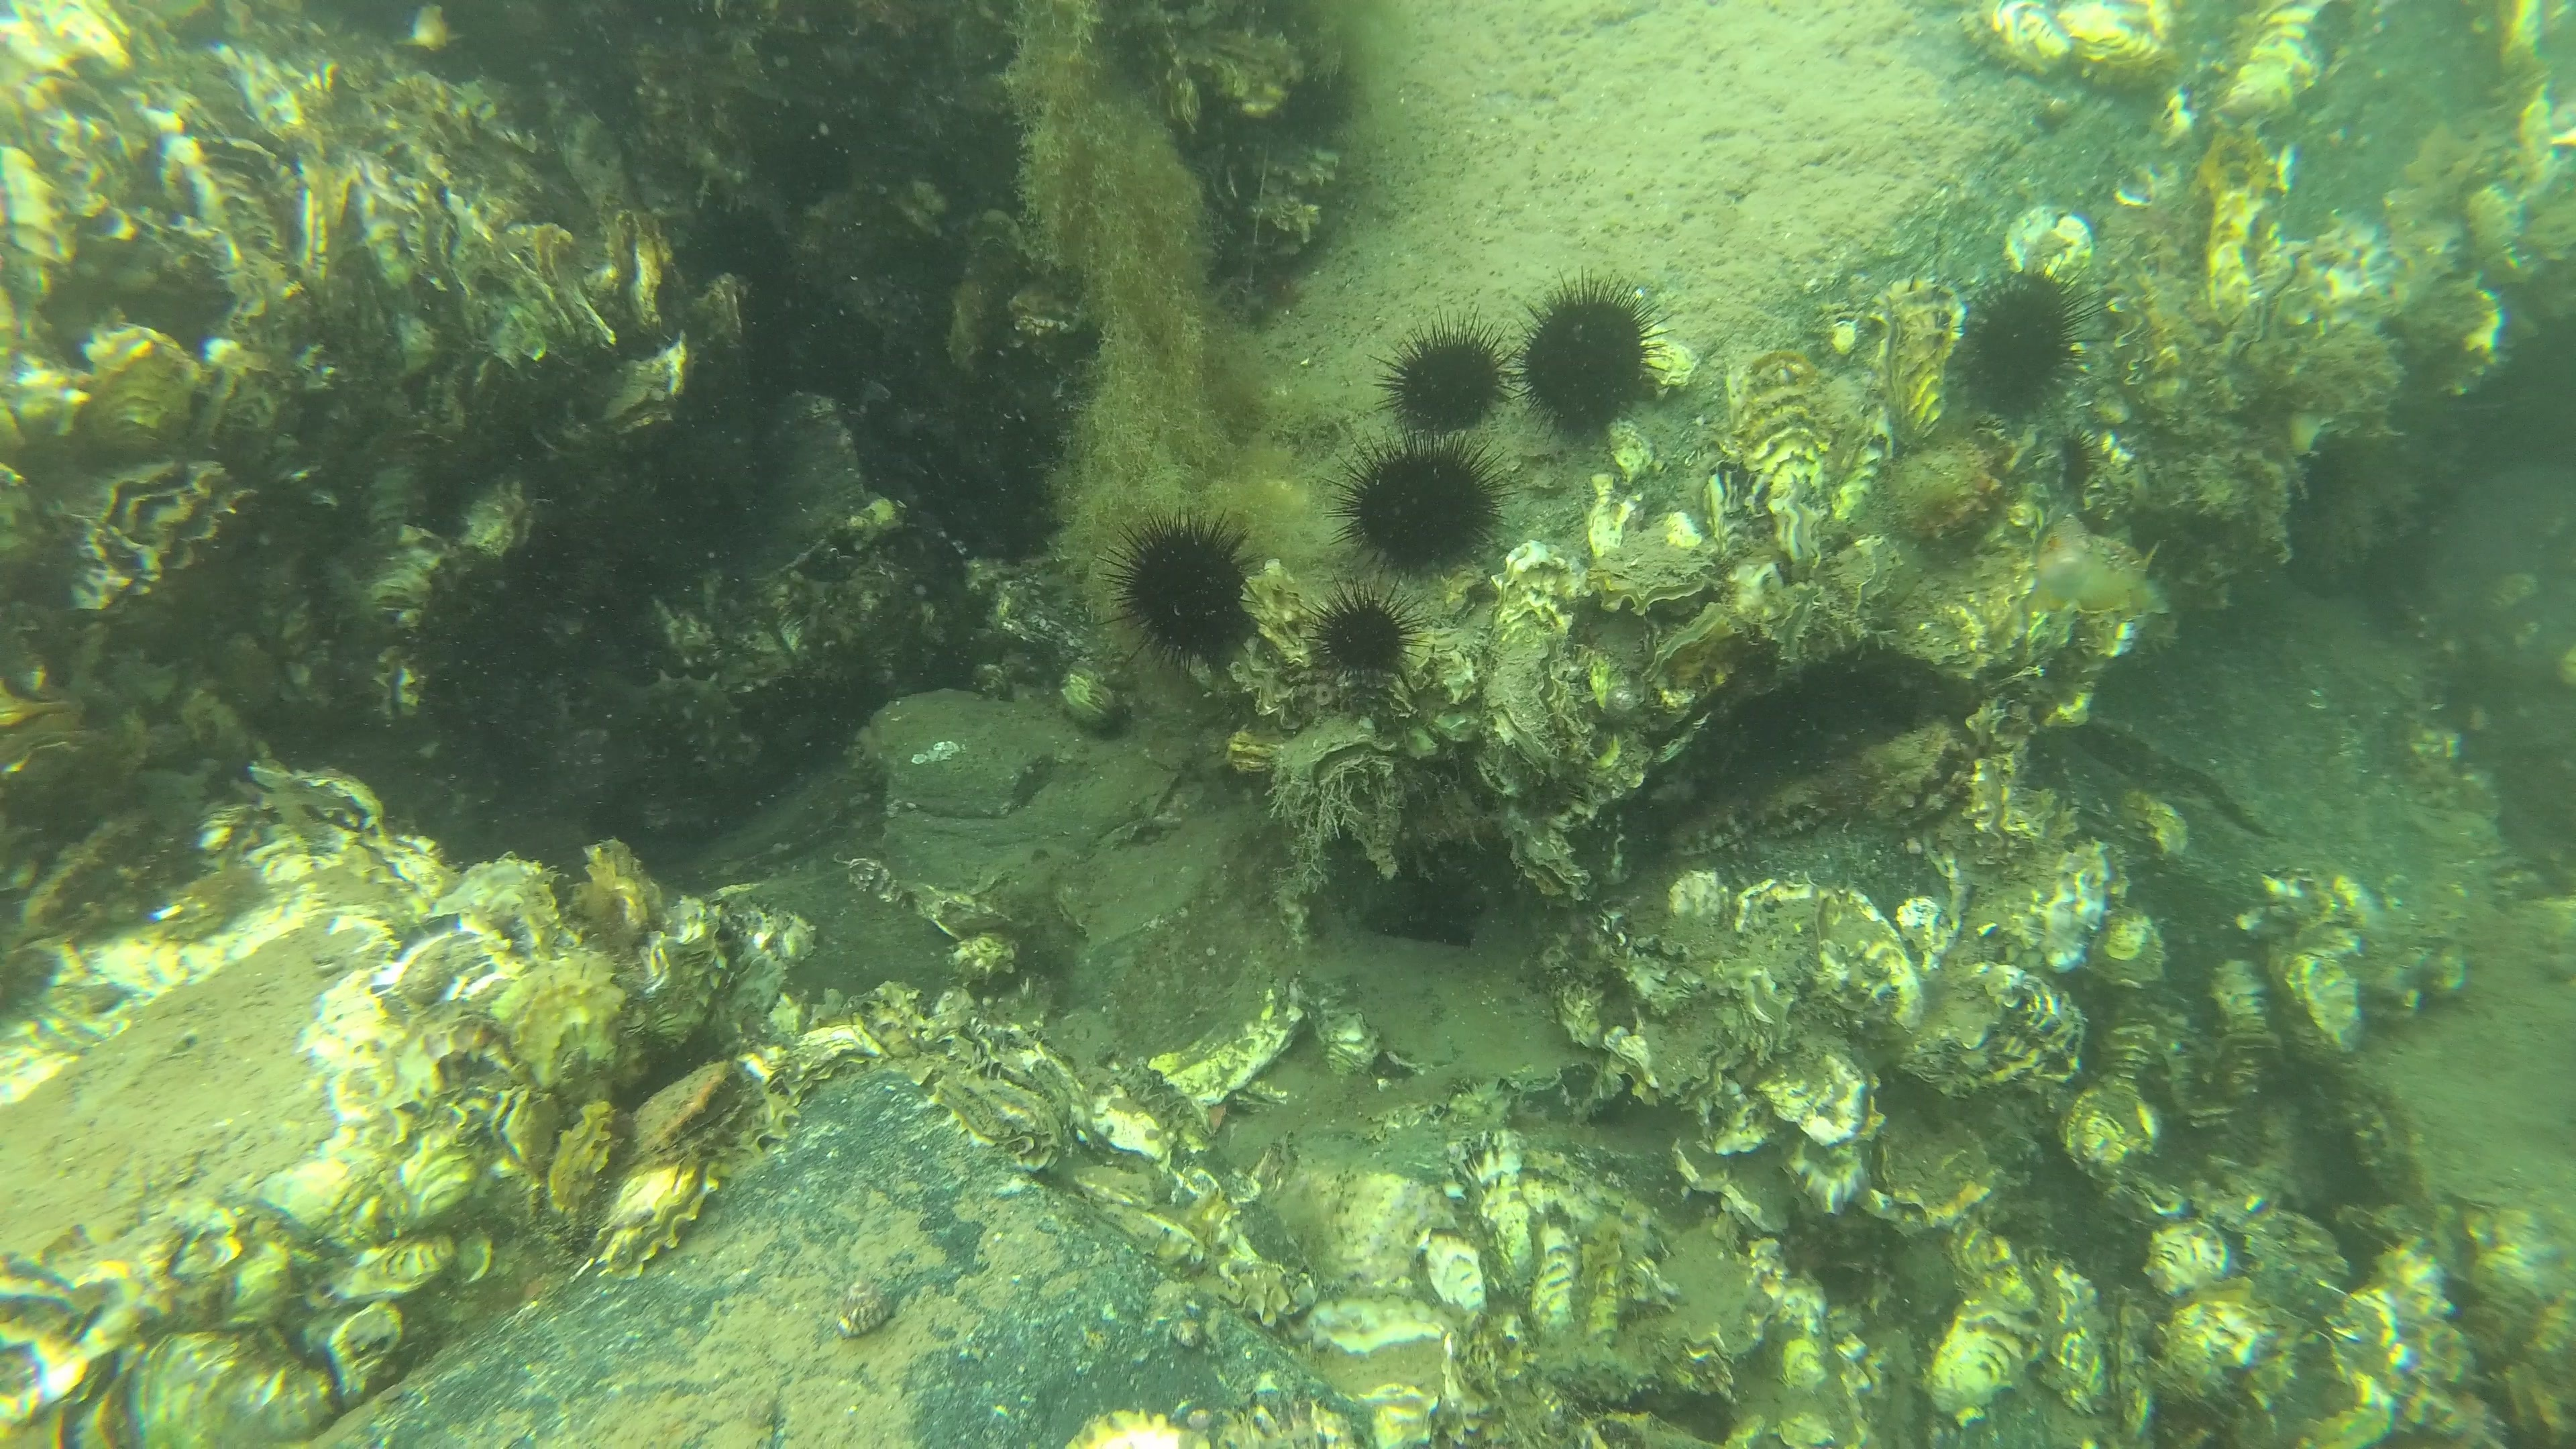echinus: (1092, 506, 1258, 681), (1327, 428, 1516, 575), (1523, 271, 1674, 451), (1951, 264, 2100, 442), (1366, 310, 1529, 442), (1297, 571, 1426, 694)
